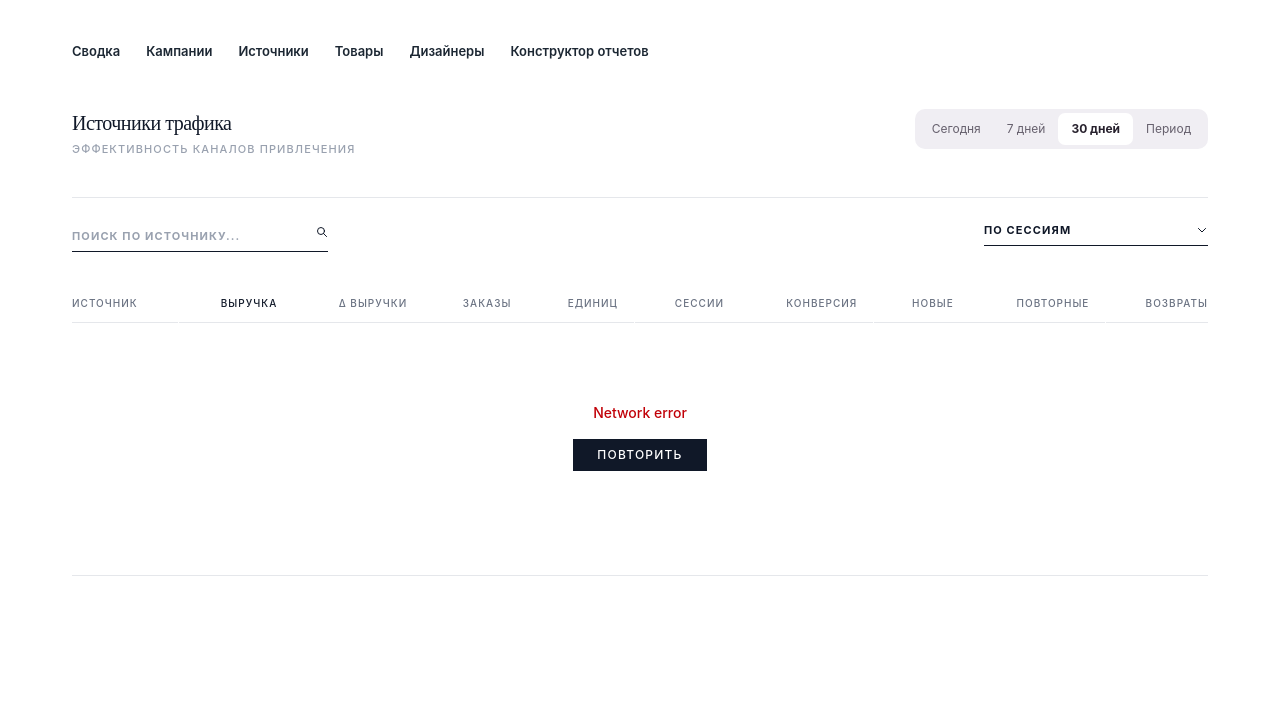
Test: AdminMarketingSources › shows error state and retries on button click
Step 1. Click the button "Повторить" → (640, 455), box [573,439,707,471]
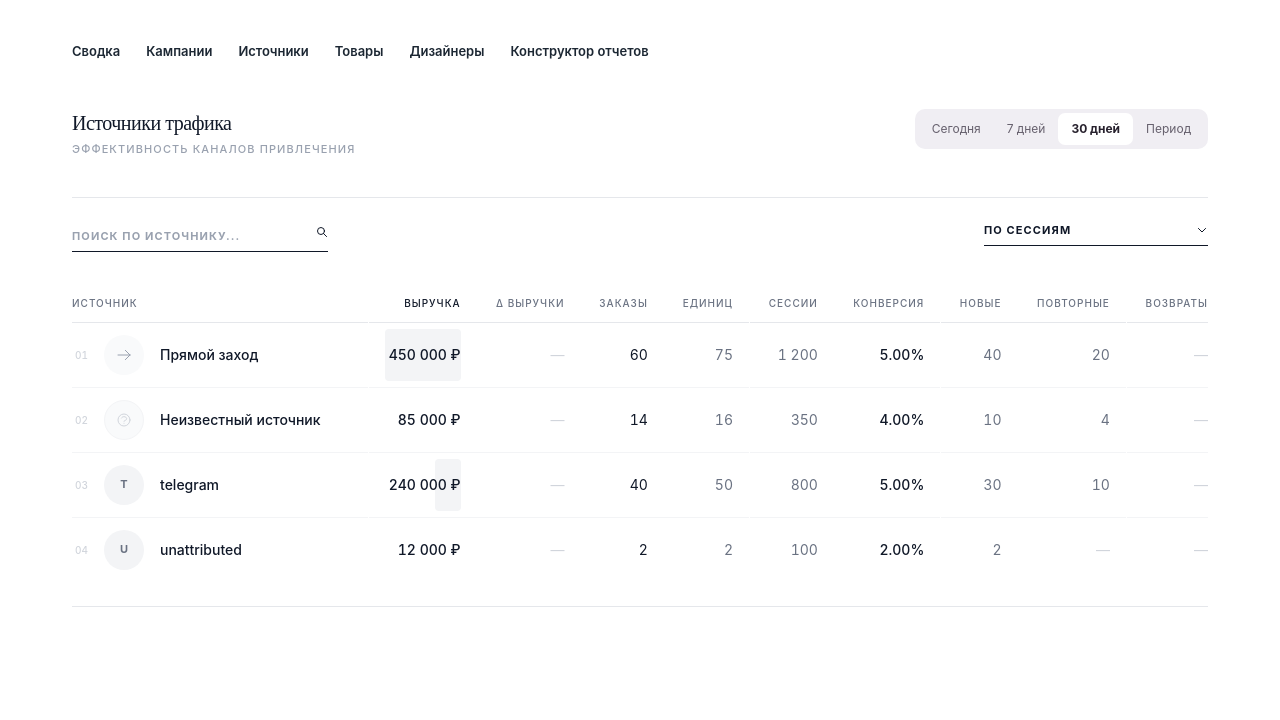
Result: the text "Прямой заход" is shown at [160,346,258,363]
